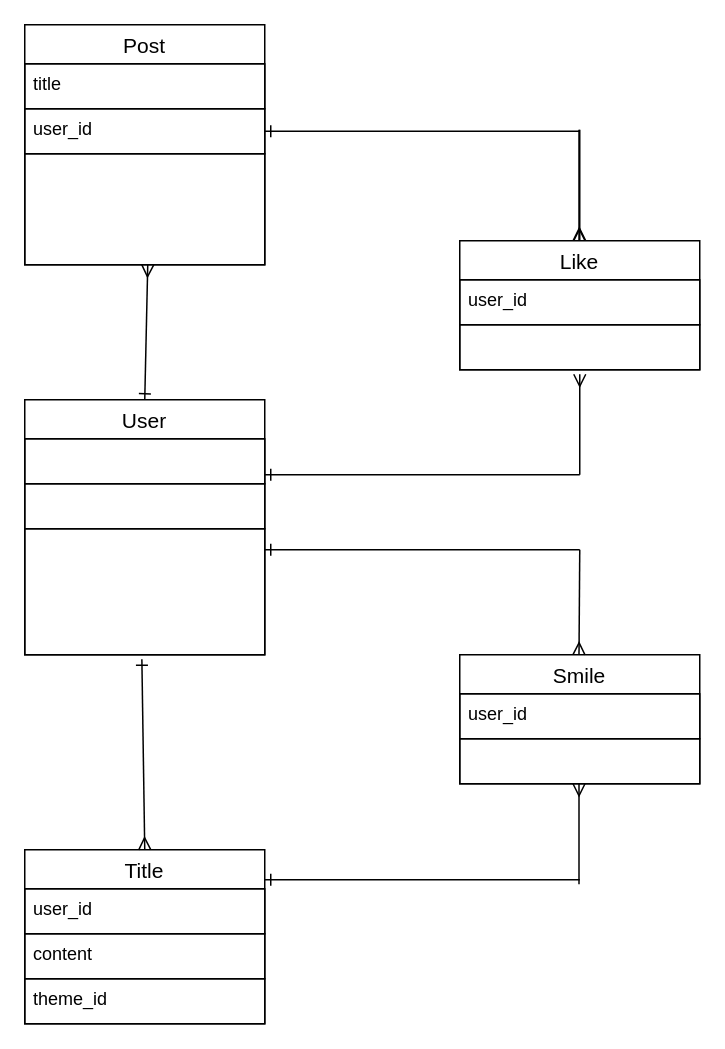
The diagram is 725 pixels wide and 1049 high, and some of its shapes have lost their labels. Here are the shapes that lost their labels. From the top down, the centre of each, then its label:
At point 144,208: "body image_id".
At point 579,346: "post_id".
At point 144,460: "user_name".
At point 144,505: "email".
At point 144,591: "password profile profile_image_id".
At point 579,760: "title_id".
